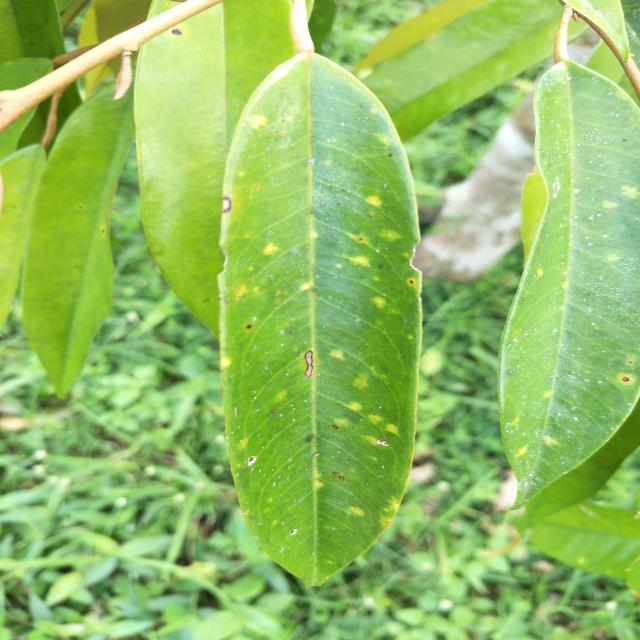Leaf Spot: (316, 461, 359, 497), (324, 415, 353, 439), (397, 276, 440, 292), (608, 356, 630, 382), (237, 316, 261, 338), (351, 228, 373, 248), (377, 144, 395, 162)
